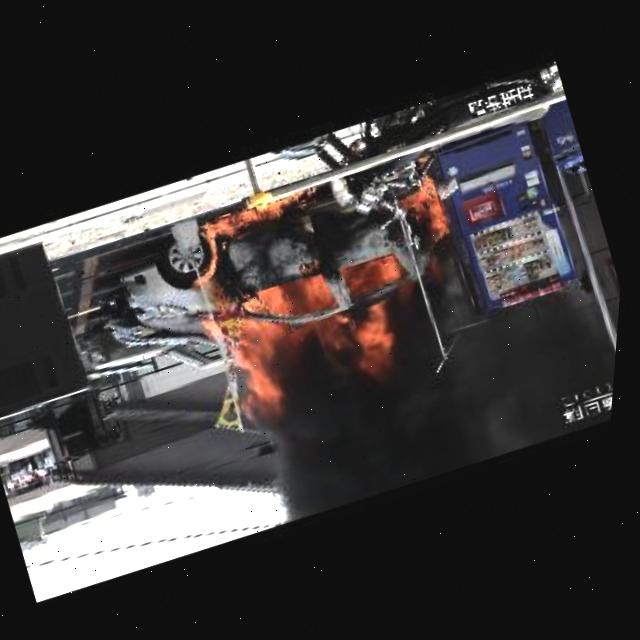Fire: (159, 126, 508, 430)
Smoke: (224, 238, 627, 535)
